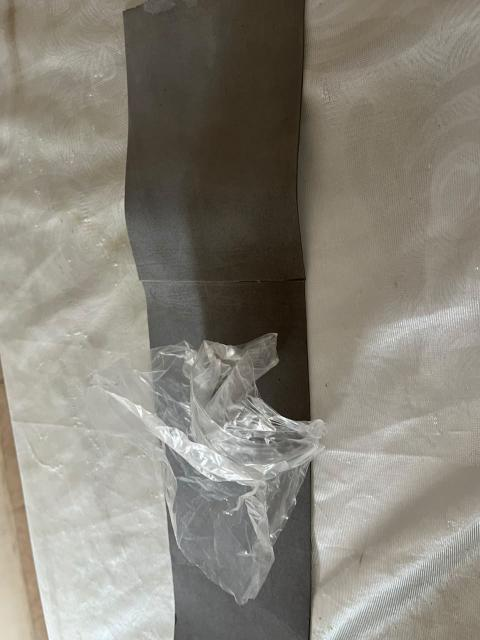LDPE: (94, 317, 404, 629)
